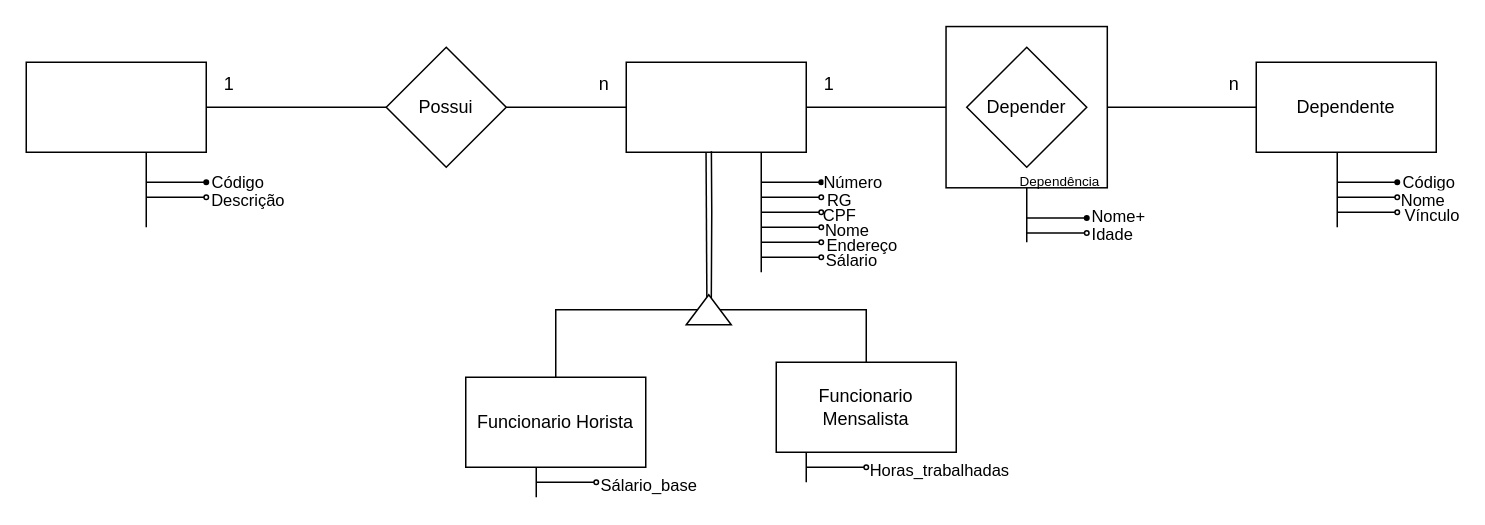
The diagram is 1485 pixels wide and 525 high, and some of its shapes have lost their labels. Each missing label, with the box of its shape:
Departamento: (25, 61, 206, 152)
Funcionário: (625, 61, 806, 152)
